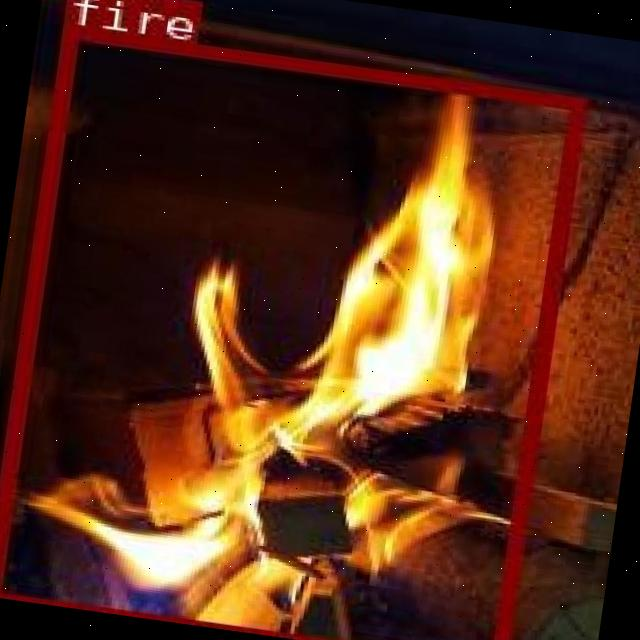fire: (0, 22, 581, 640)
